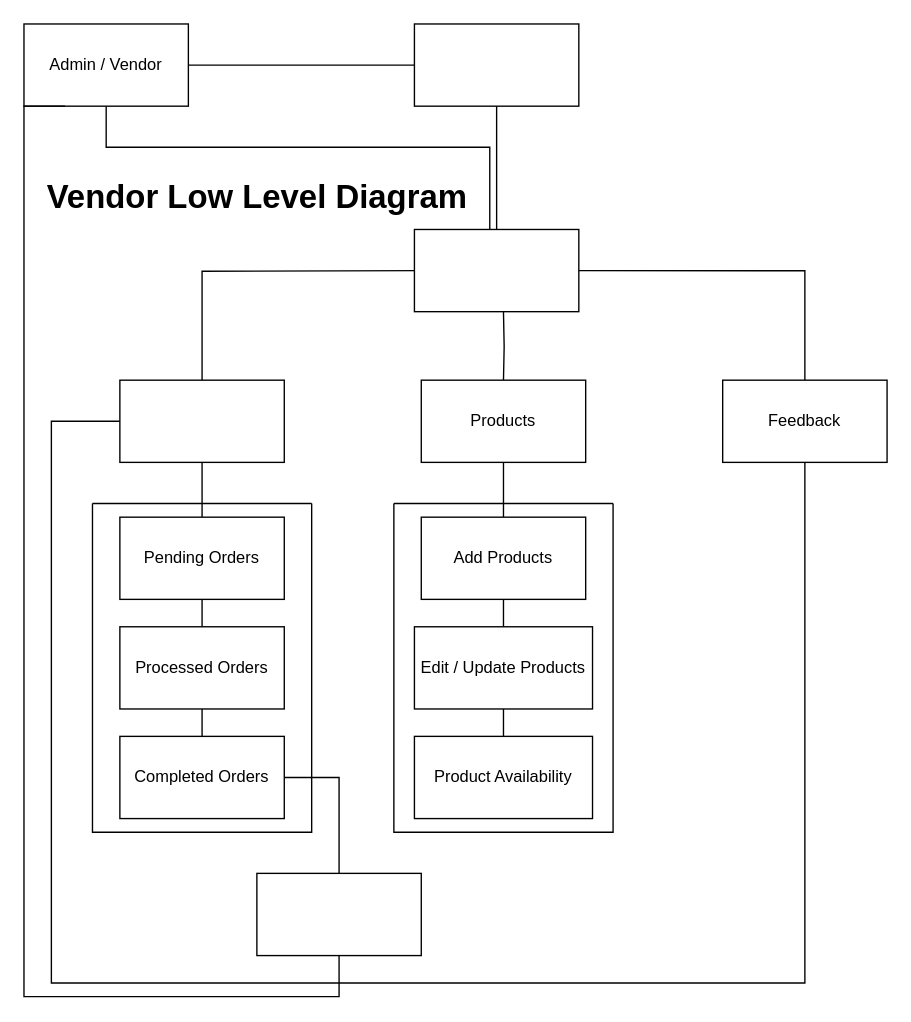
The diagram is 911 pixels wide and 1022 high, and some of its shapes have lost their labels. Each missing label, with the centre of its shape:
Login: [496,270]
Orders: [201,420]
Payment: [338,914]
Register: [496,64]
